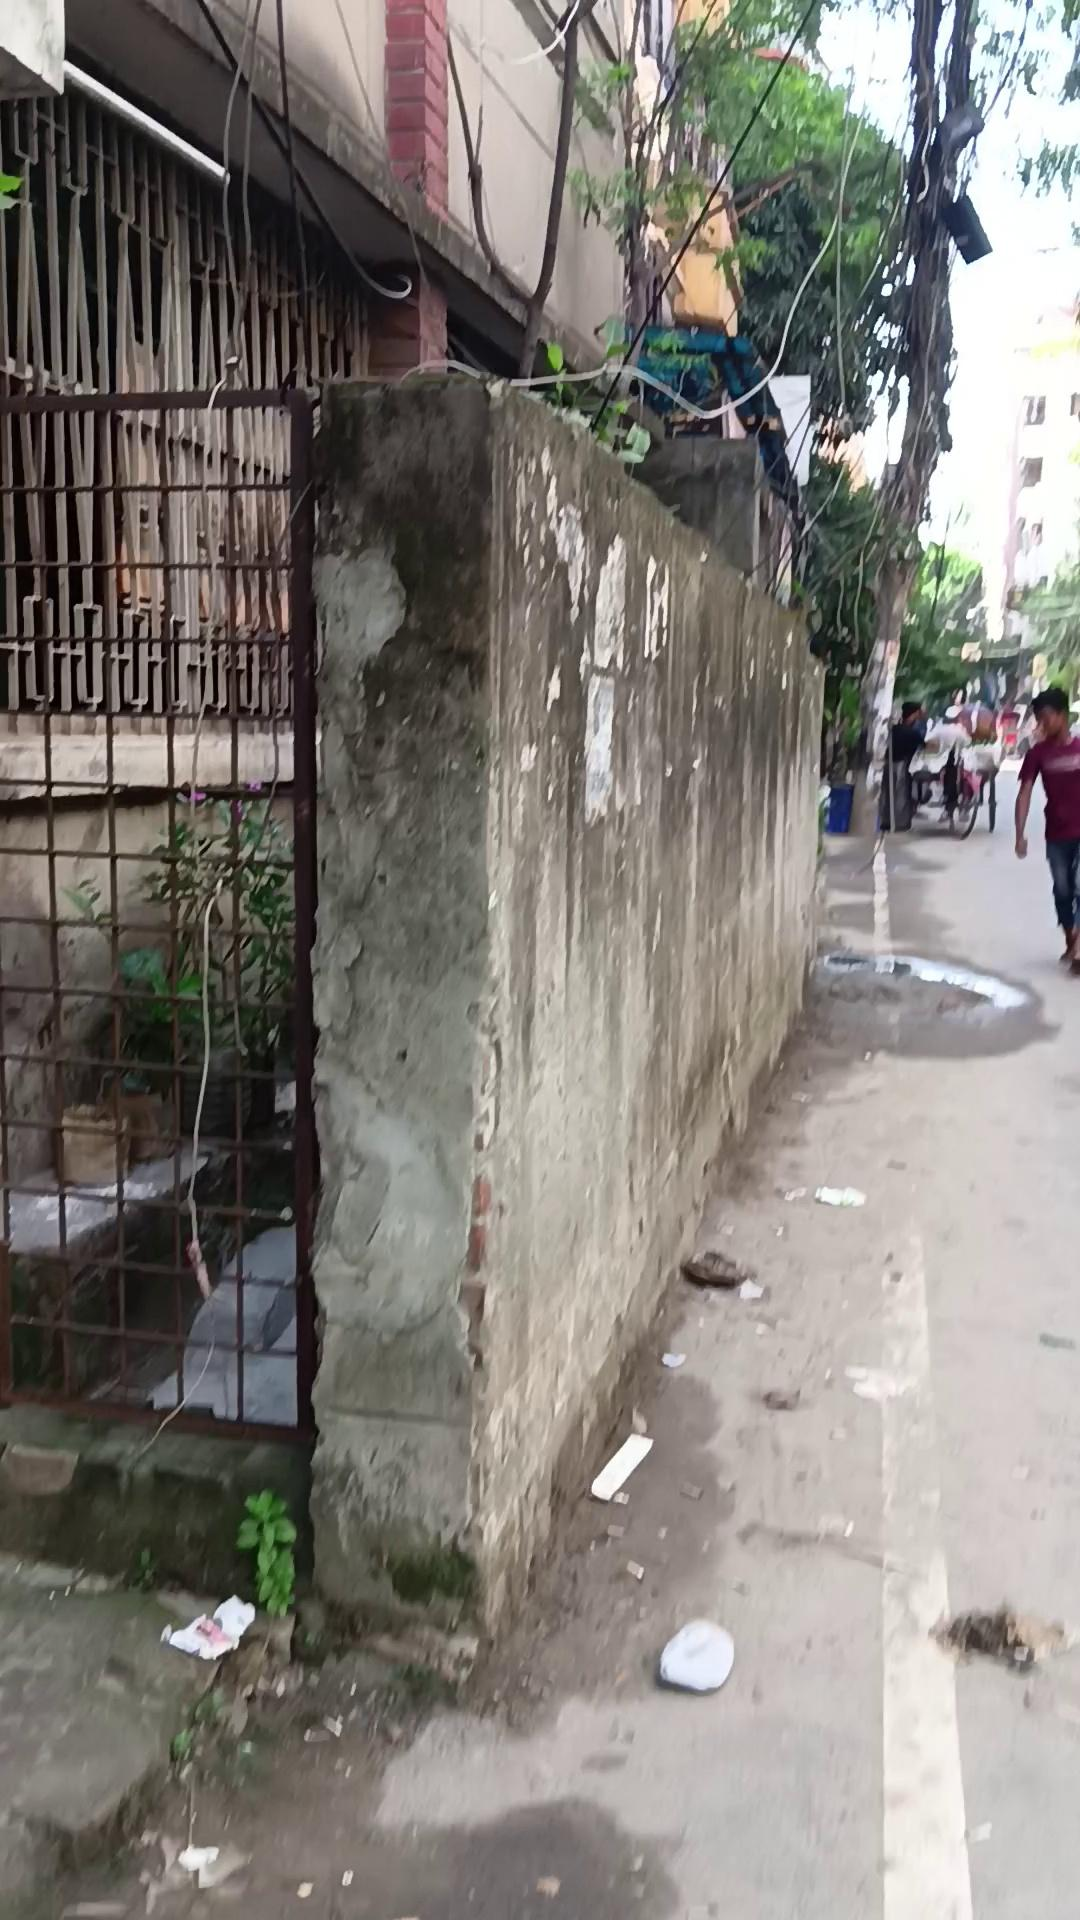Cat: (825, 781, 855, 833)
Curb: (1011, 686, 1079, 971)
Fallen-tree: (135, 781, 298, 1138)
Fence: (876, 729, 1000, 837)
Obstacle: (324, 360, 851, 1658)
